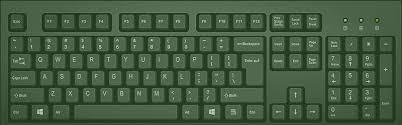keyboard: (0, 0, 401, 124)
